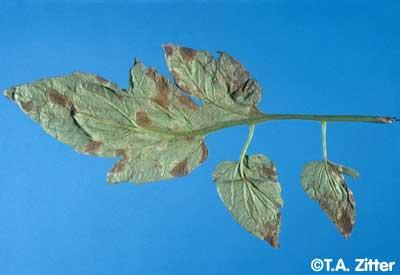Tomato mold leaf: (3, 35, 263, 189), (212, 150, 297, 250), (300, 159, 366, 237)
